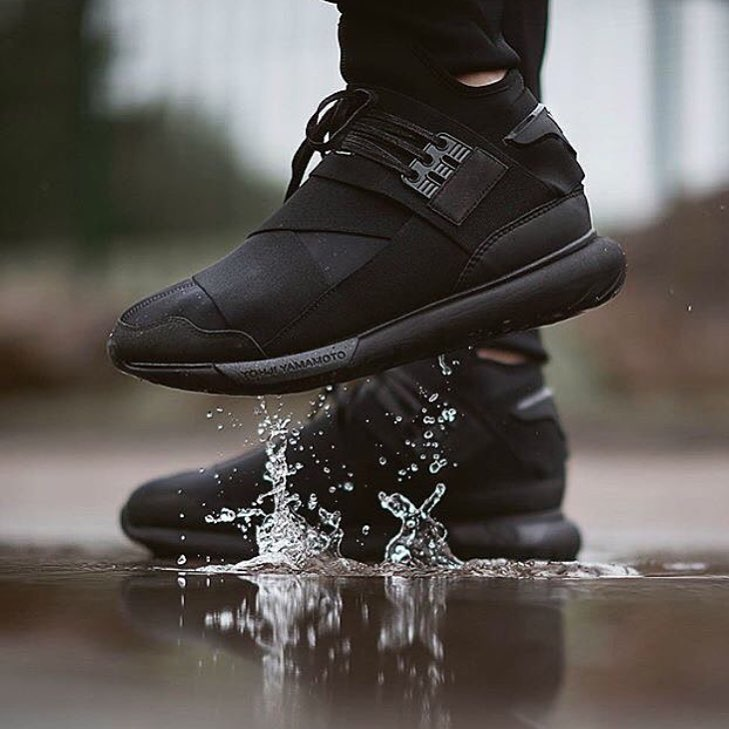sneaker: (97, 23, 645, 428), (97, 306, 614, 590)
